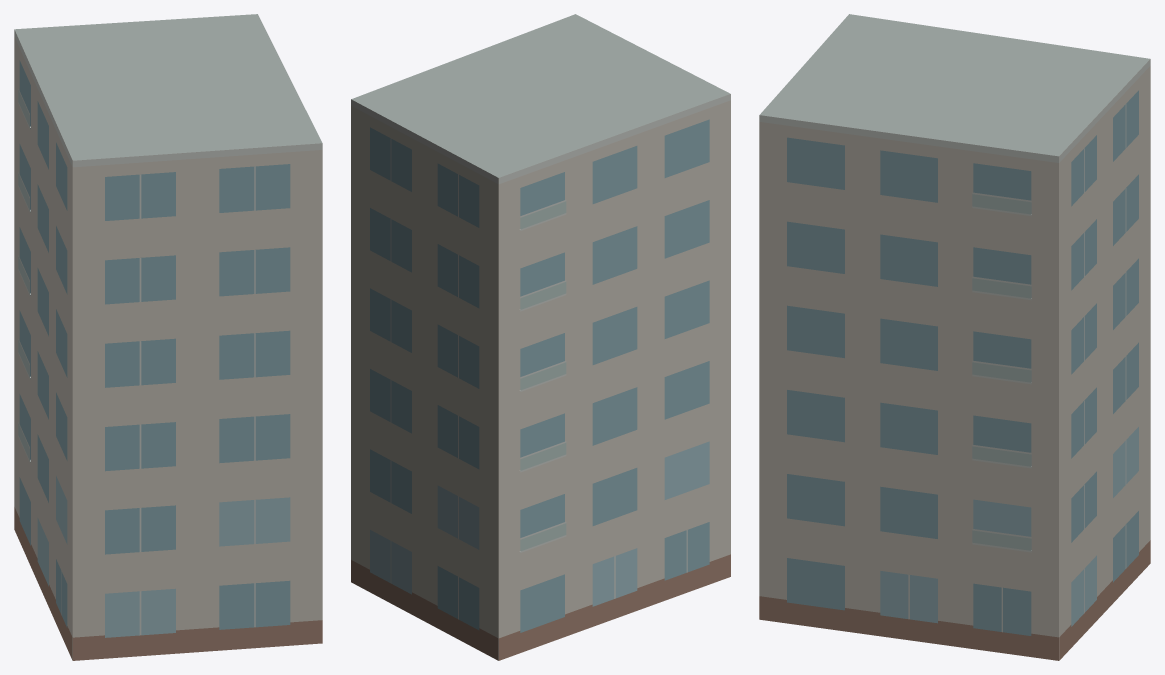
Rendered from survey-upis-32869793.glb.
3 renders of one model, left to right at view 1: azimuth 30°, elevation 25°; view 2: azimuth 150°, elevation 25°; view 3: azimuth 270°, elevation 25°, orthographic. The views are drawn at different scales.
Visible parts, largest first — view 1: survey-upis-32869793.tmp; view 2: survey-upis-32869793.tmp; view 3: survey-upis-32869793.tmp.
Part boxes in pixels (<box>): survey-upis-32869793.tmp: <box>14,14,322,660</box>; survey-upis-32869793.tmp: <box>351,14,730,660</box>; survey-upis-32869793.tmp: <box>759,14,1150,660</box>.
Bounding box in the file's own units: 11.08 × 18.3 × 12.87.
